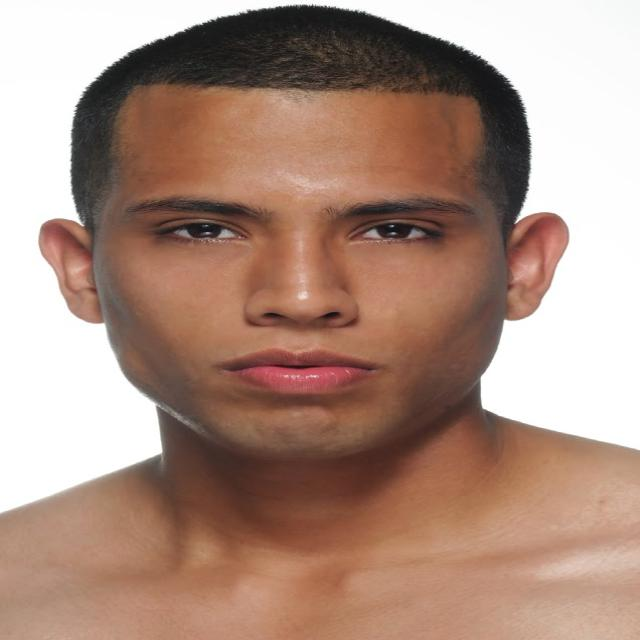front: (121, 152, 493, 426)
